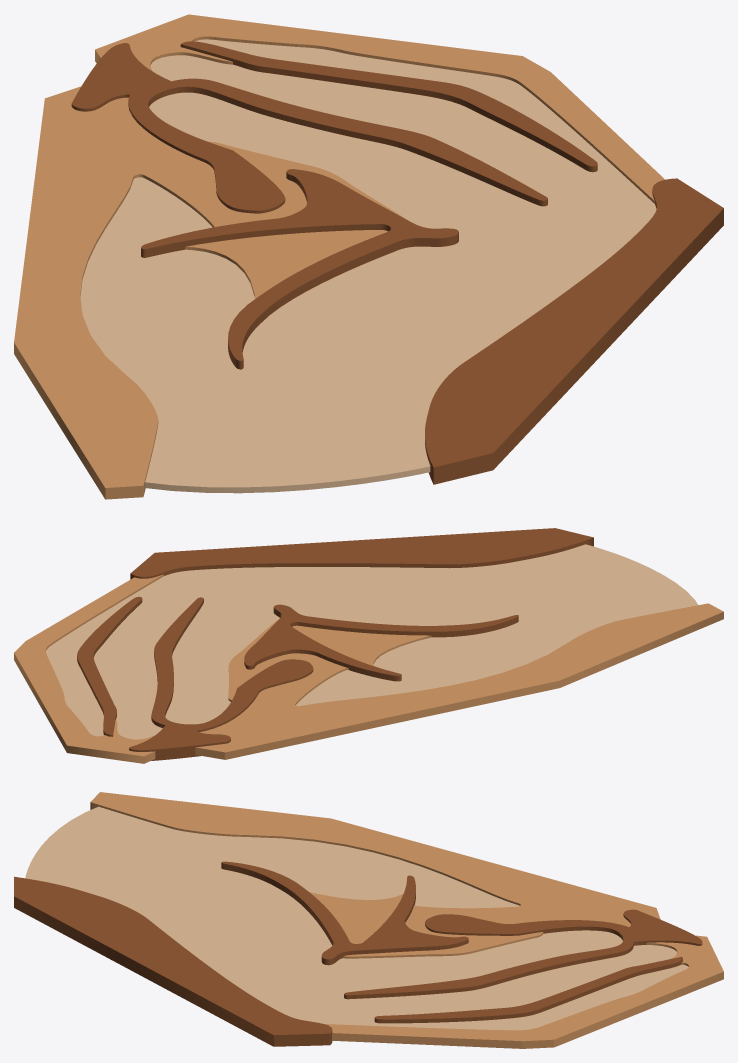
The model's file is emoji_u1f90c_1f3fc.glb.
3 views of the same model, one above another, from view 1: azimuth 30°, elevation 25°; view 2: azimuth 150°, elevation 25°; view 3: azimuth 270°, elevation 25° (orthographic). The views are drawn at different scales.
Visible parts, largest first — view 1: emoji_u1f90c_1f3fc; view 2: emoji_u1f90c_1f3fc; view 3: emoji_u1f90c_1f3fc.
Part boxes in pixels (x1,y1,x2,y2): emoji_u1f90c_1f3fc: [14, 14, 723, 499]; emoji_u1f90c_1f3fc: [14, 528, 723, 763]; emoji_u1f90c_1f3fc: [14, 792, 723, 1048].
Size of the model in its own units: 0.0276 by 0.0008 by 0.0333.
